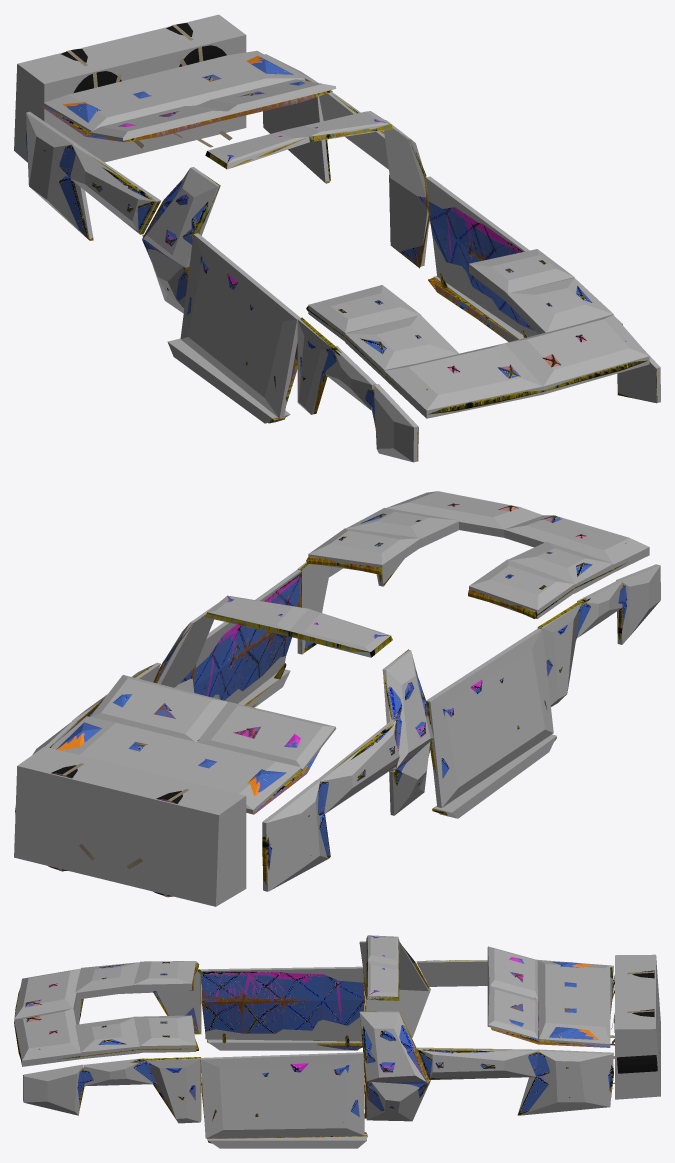
Rendered from Charger Armor.fbx.
The picture shows the model from 3 angles, top to bottom: view 1: azimuth 30°, elevation 25°; view 2: azimuth 150°, elevation 25°; view 3: azimuth 270°, elevation 25°; orthographic projection. The views are drawn at different scales.
Visible parts, largest first — view 1: Hood_Armor_Colider2__, Right_Side_Armor_Colider, Tire_Bumper_colider, Back_Piece_Armor_Colider2__, Hood_Armor_Colider3__, Hood_Armor_Colider1__, Left_Side_Armor, polySurface22, polySurface16, polySurface20, Left_Side_Armor_Colider, polySurface21 (+23 smaller); view 2: Tire_Bumper_colider, Right_Side_Armor_Colider, Back_Piece_Armor_Colider2__, Hood_Armor_Colider2__, Hood_Armor_Colider1__, Left_Side_Armor, Back_Piece_Armor_Colider4__, Back_Piece_Armor_Colider3__, Hood_Armor_Colider3__, polySurface22, polySurface20, polySurface16 (+17 smaller); view 3: Left_Side_Armor_Colider, Right_Side_Armor, Tire_Bumper_colider, Back_Piece_Armor_Colider2__, Hood_Armor_Colider2__, polySurface21, Hood_Armor_Colider3__, Hood_Armor_Colider1__, polySurface19, Right_Side_Armor_Colider, polySurface15, polySurface13 (+23 smaller).
Part boxes in pixels (<box>): Hood_Armor_Colider2__: <box>384,315,649,418</box>; Right_Side_Armor_Colider: <box>180,233,300,418</box>; Tire_Bumper_colider: <box>14,14,246,162</box>; Back_Piece_Armor_Colider2__: <box>43,50,305,131</box>; Hood_Armor_Colider3__: <box>345,278,613,378</box>; Hood_Armor_Colider1__: <box>308,249,574,341</box>; Left_Side_Armor: <box>427,195,534,330</box>; polySurface22: <box>26,111,93,240</box>; polySurface16: <box>143,167,220,267</box>; polySurface20: <box>70,143,160,234</box>; Left_Side_Armor_Colider: <box>426,176,536,336</box>; polySurface21: <box>263,54,329,183</box>; Tire_Bumper_colider: <box>14,746,246,906</box>; Right_Side_Armor_Colider: <box>426,628,553,807</box>; Back_Piece_Armor_Colider2__: <box>51,716,301,813</box>; Hood_Armor_Colider2__: <box>387,491,649,572</box>; Hood_Armor_Colider1__: <box>308,528,574,618</box>; Left_Side_Armor: <box>193,572,301,700</box>; Back_Piece_Armor_Colider4__: <box>197,702,336,770</box>; Back_Piece_Armor_Colider3__: <box>90,675,227,741</box>; Hood_Armor_Colider3__: <box>347,508,613,593</box>; polySurface22: <box>262,780,329,891</box>; polySurface20: <box>316,720,399,813</box>; polySurface16: <box>382,650,433,772</box>; Left_Side_Armor_Colider: <box>200,1052,364,1138</box>; Right_Side_Armor: <box>201,971,364,1041</box>; Tire_Bumper_colider: <box>615,954,660,1099</box>; Back_Piece_Armor_Colider2__: <box>537,960,610,1046</box>; Hood_Armor_Colider2__: <box>14,968,80,1066</box>; polySurface21: <box>518,1049,613,1115</box>; Hood_Armor_Colider3__: <box>75,962,140,1058</box>; Hood_Armor_Colider1__: <box>133,961,196,1052</box>; polySurface19: <box>416,1047,538,1079</box>; Right_Side_Armor_Colider: <box>200,966,363,1041</box>; polySurface15: <box>359,1011,429,1084</box>; polySurface13: <box>145,1058,200,1123</box>.
Size of the model in its own units: 2.12 by 1.29 by 5.54.
3 materials, 2 textured.
